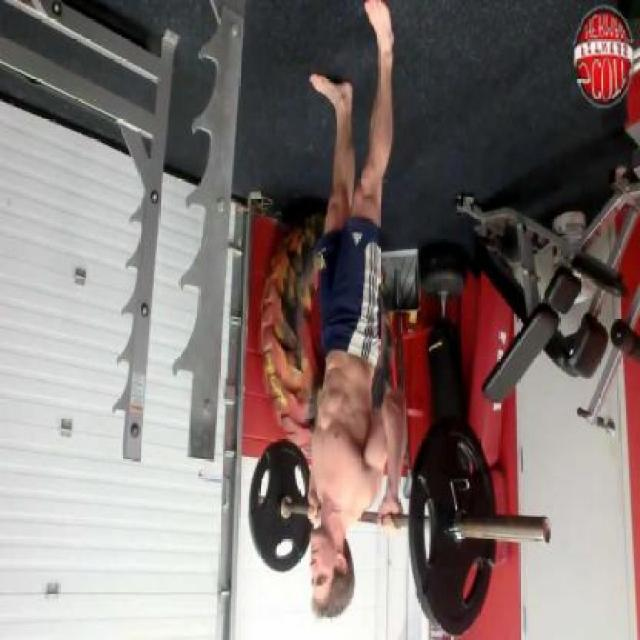Barbell: (540, 513, 554, 550)
